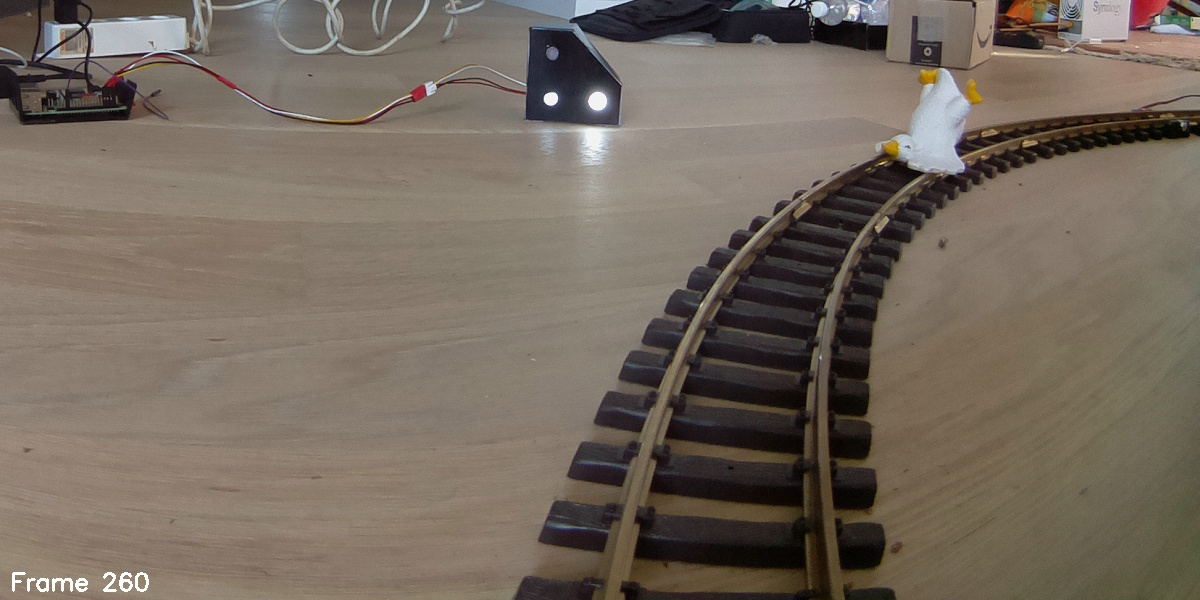Ente: (873, 62, 983, 190)
Halt: (528, 25, 623, 132)
